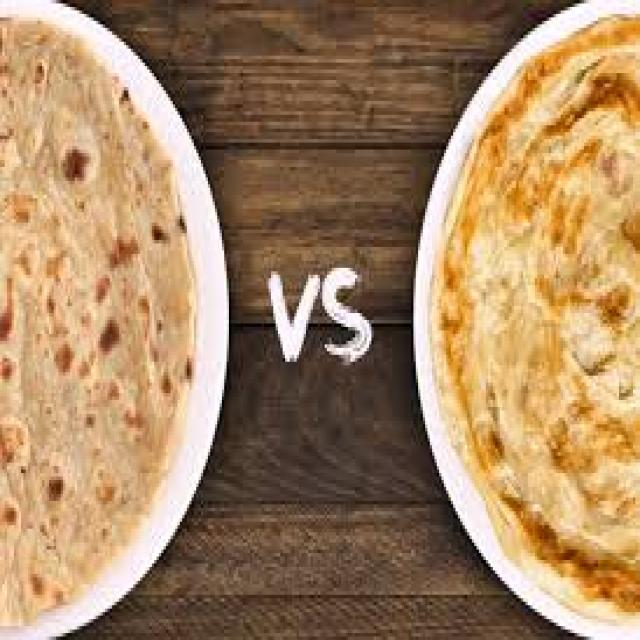ROTI: (2, 19, 204, 622), (440, 16, 638, 620)
